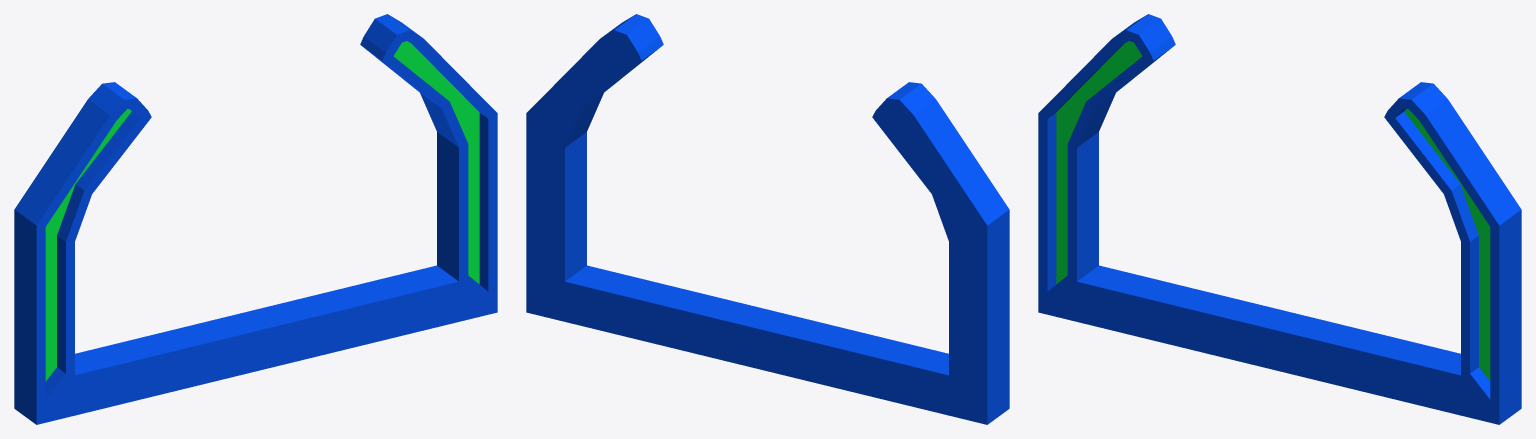
File: HighwayGate.obj
The picture shows the model from 3 angles, left to right: view 1: azimuth 30°, elevation 25°; view 2: azimuth 150°, elevation 25°; view 3: azimuth 330°, elevation 25°; orthographic projection.
Parts seen in each view (by area): view 1: Box003; view 2: Box003; view 3: Box003.
Part boxes in pixels (bbox=[...]): Box003: bbox=[14, 14, 497, 424]; Box003: bbox=[526, 14, 1009, 424]; Box003: bbox=[1038, 14, 1521, 424].
Bounding box in the file's own units: 120 × 75.55 × 10.
